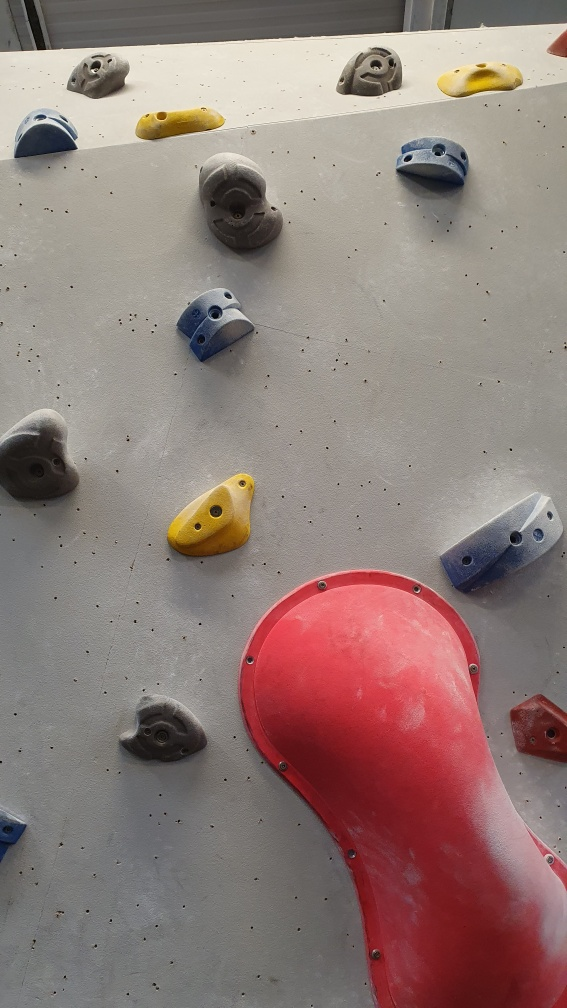Jug: (193, 152, 288, 256), (1, 402, 91, 505), (116, 685, 206, 771), (335, 44, 407, 100), (73, 49, 127, 105)
Pinch: (437, 499, 565, 588), (175, 284, 258, 359), (394, 135, 473, 188), (11, 107, 82, 162), (439, 59, 525, 95)
